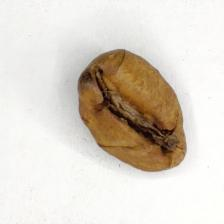NG: (80, 62, 173, 158)
